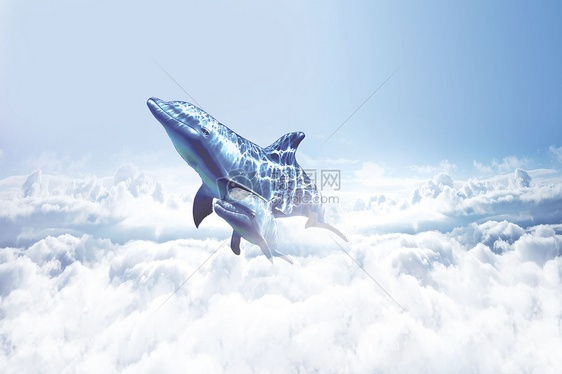fish: (146, 87, 348, 239), (208, 191, 296, 267)
